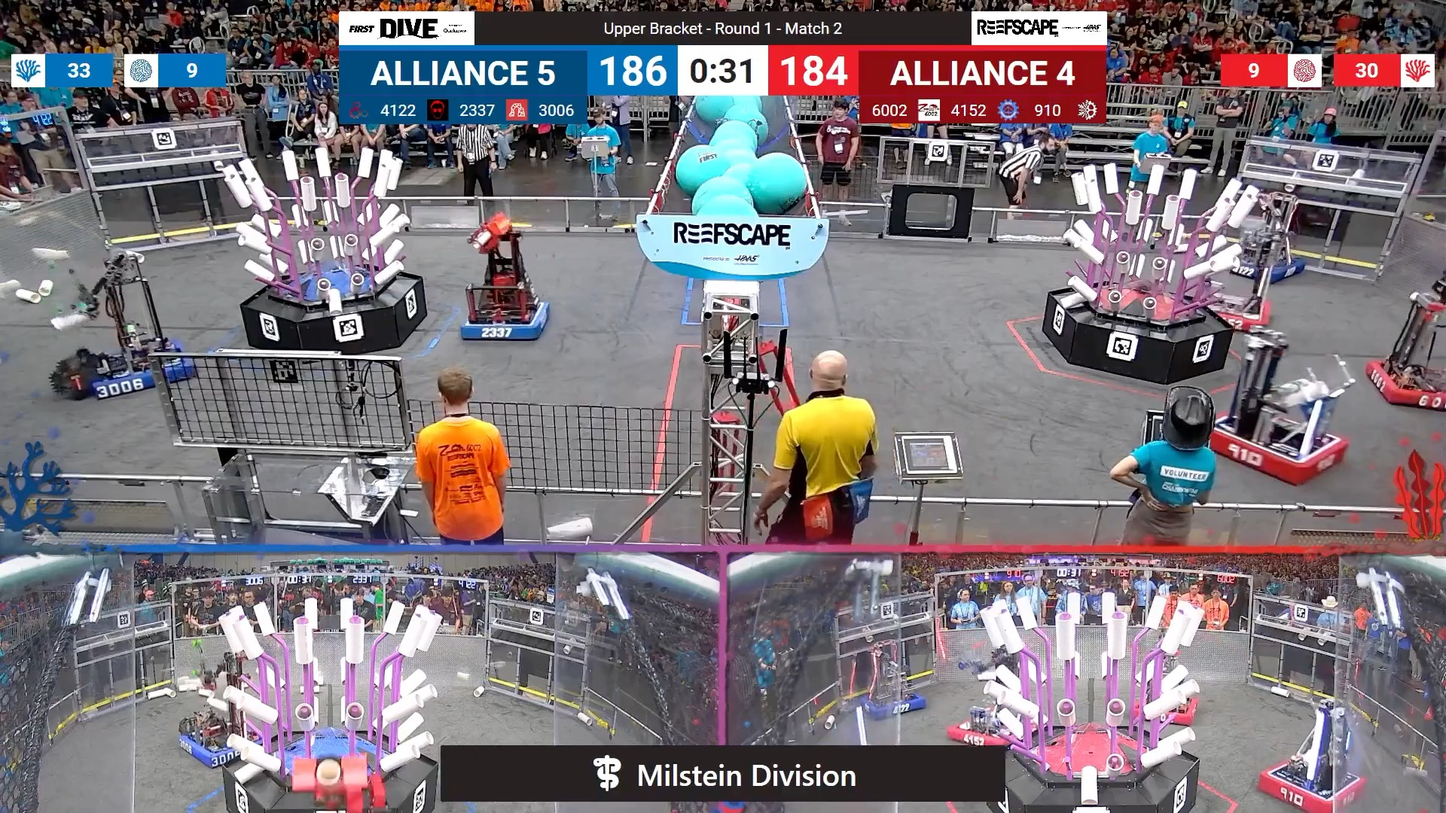bumpers: (1200, 406, 1353, 486), (54, 341, 198, 400), (1249, 760, 1372, 812), (453, 290, 556, 347), (1357, 355, 1445, 419), (944, 709, 1045, 751), (171, 729, 255, 769), (1124, 687, 1205, 726), (853, 690, 933, 722)
